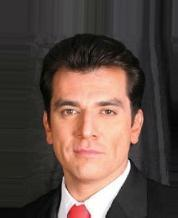face: (56, 98, 121, 160)
